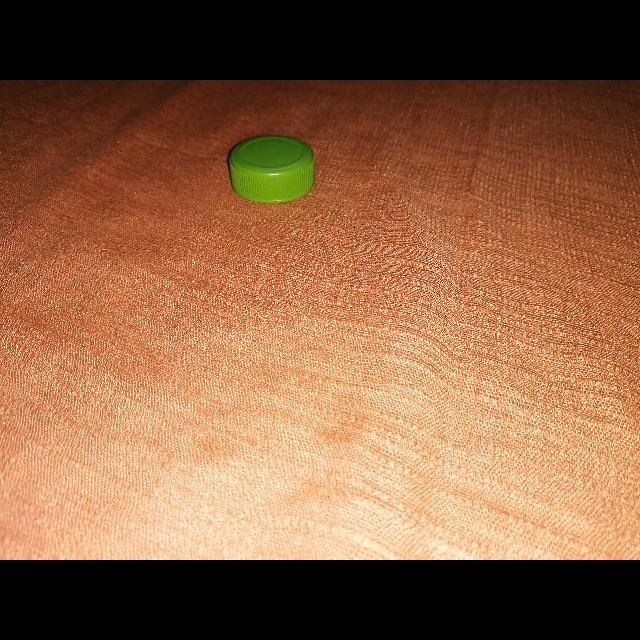plastic_bottle_cap: (228, 134, 316, 203)
